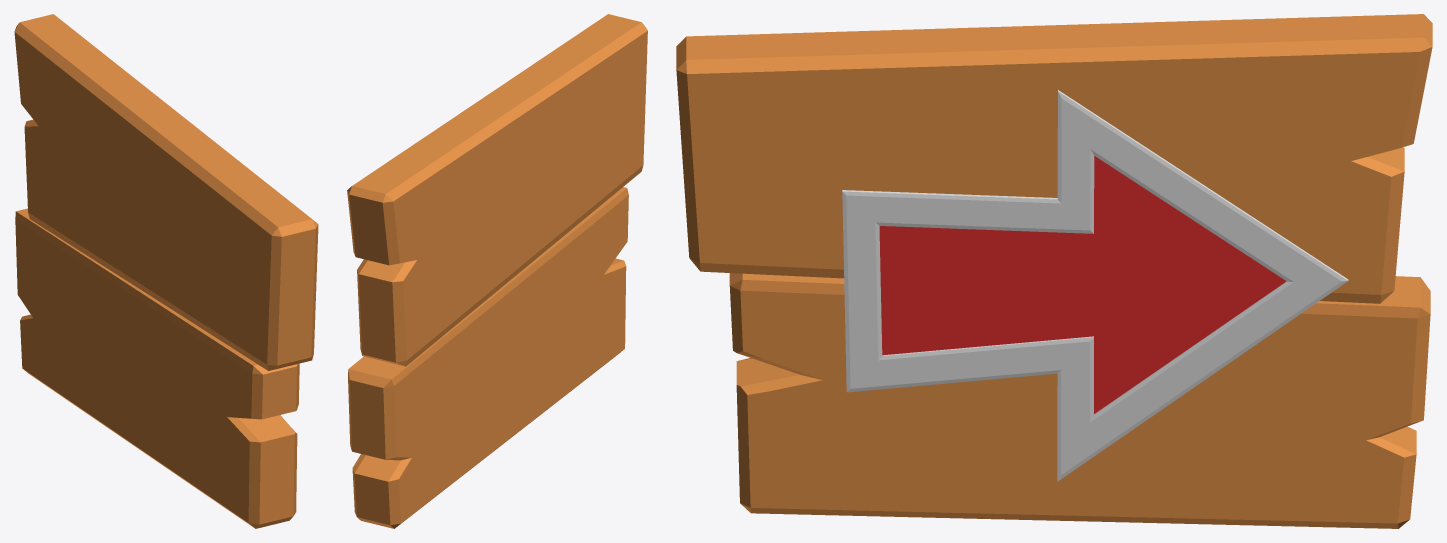
Rendered from signVFIN_low.fbx.
3 views of the same model, side by side, from view 1: azimuth 30°, elevation 25°; view 2: azimuth 150°, elevation 25°; view 3: azimuth 270°, elevation 25° (orthographic). The views are drawn at different scales.
Parts seen in each view (by area): view 1: Cube.014; view 2: Cube.014; view 3: Cube.014.
Part boxes in pixels (<box>): Cube.014: <box>14,14,318,528</box>; Cube.014: <box>347,14,647,528</box>; Cube.014: <box>676,14,1432,528</box>.
Bounding box in the file's own units: 55.64 × 371 × 517.
